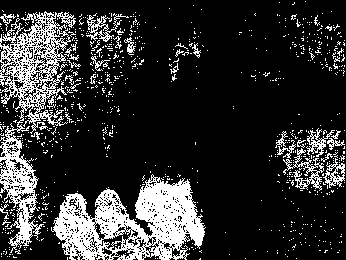person: (93, 189, 145, 260), (58, 194, 95, 260)
